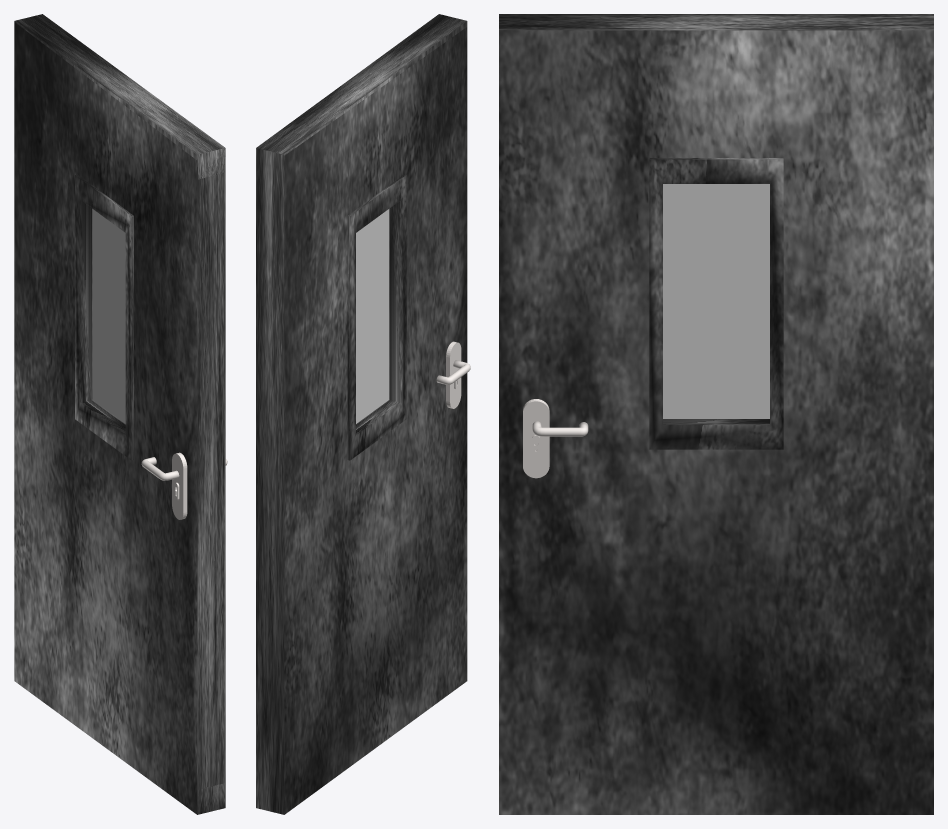
File: PuertaDefinitiva.fbx
3 renders of one model, left to right at view 1: azimuth 30°, elevation 25°; view 2: azimuth 150°, elevation 25°; view 3: azimuth 270°, elevation 25°, orthographic. The views are drawn at different scales.
Parts seen in each view (by area): view 1: Cube; view 2: Cube; view 3: Cube.
Part boxes in pixels (bbox=[...]): Cube: bbox=[14, 14, 227, 814]; Cube: bbox=[256, 14, 470, 814]; Cube: bbox=[499, 14, 933, 814].
Size of the model in its own units: 52.75 by 491 by 247.
4 materials, 1 textured.
